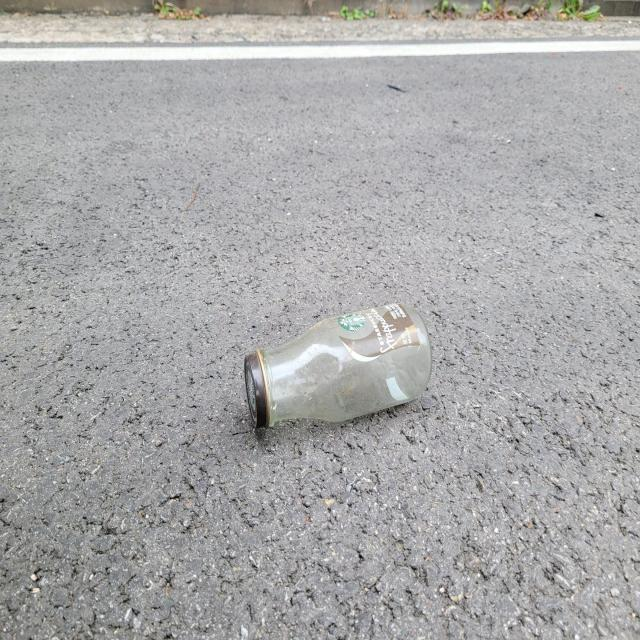glass: (245, 303, 432, 428)
